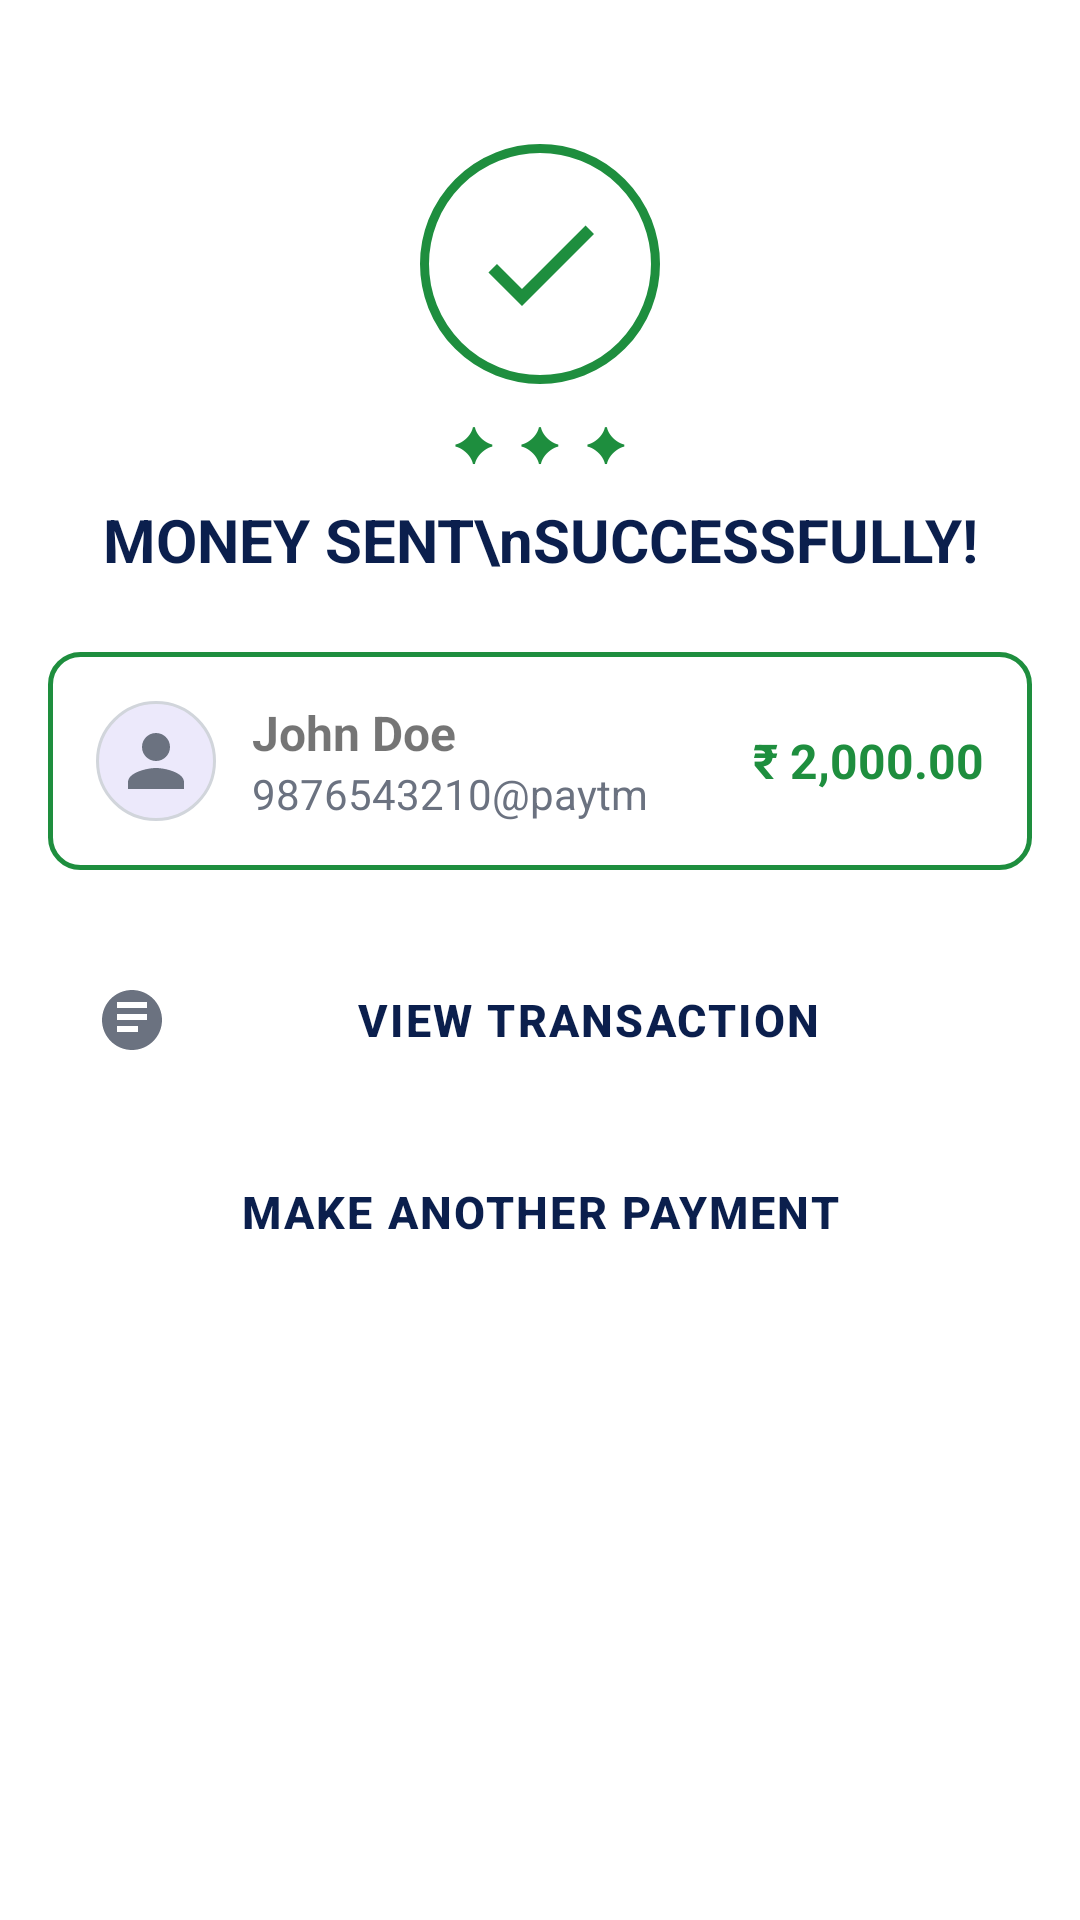

Point at icon controls on the screen. Image size 1080x1920, points as [x,y].
Recipient avatar: [156,761]
